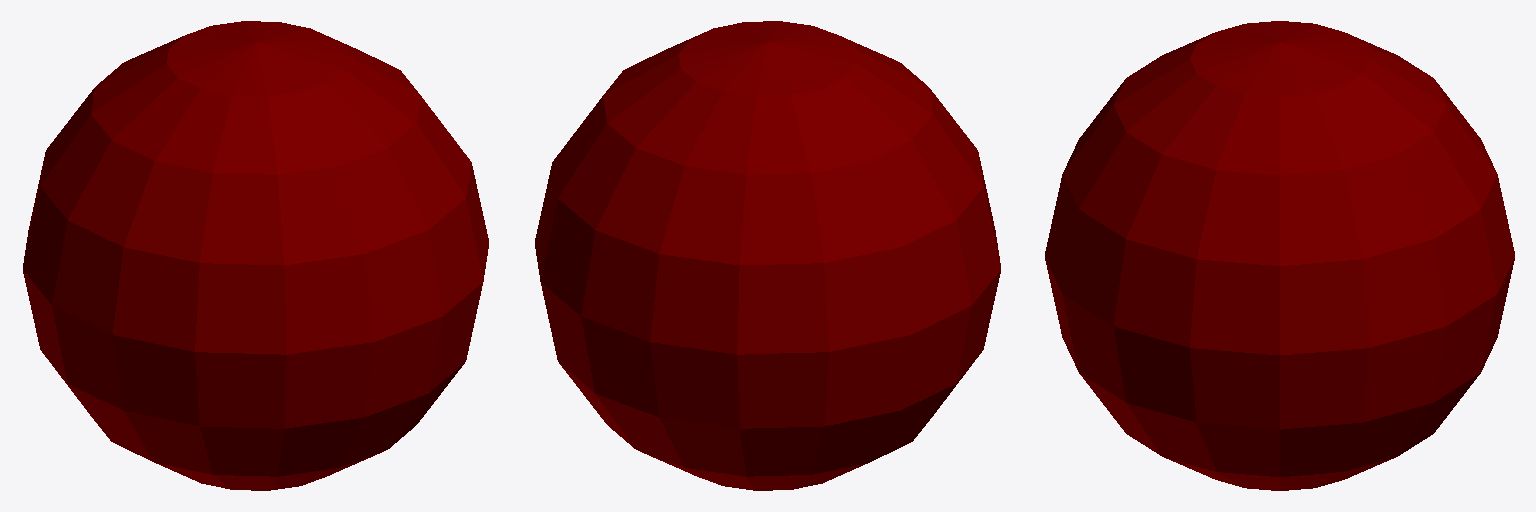
The model's file is sphere_basic.sgm.obj.
3 renders of one model, left to right at view 1: azimuth 30°, elevation 25°; view 2: azimuth 150°, elevation 25°; view 3: azimuth 270°, elevation 25°, orthographic.
Parts seen in each view (by area): view 1: 0; view 2: 0; view 3: 0.
Boxes of the visible parts, x1,y1,x2,y2 form: 0: [23, 21, 488, 490]; 0: [535, 21, 1000, 490]; 0: [1045, 21, 1514, 490].
Bounding box in the file's own units: 0.16 × 0.16 × 0.16.